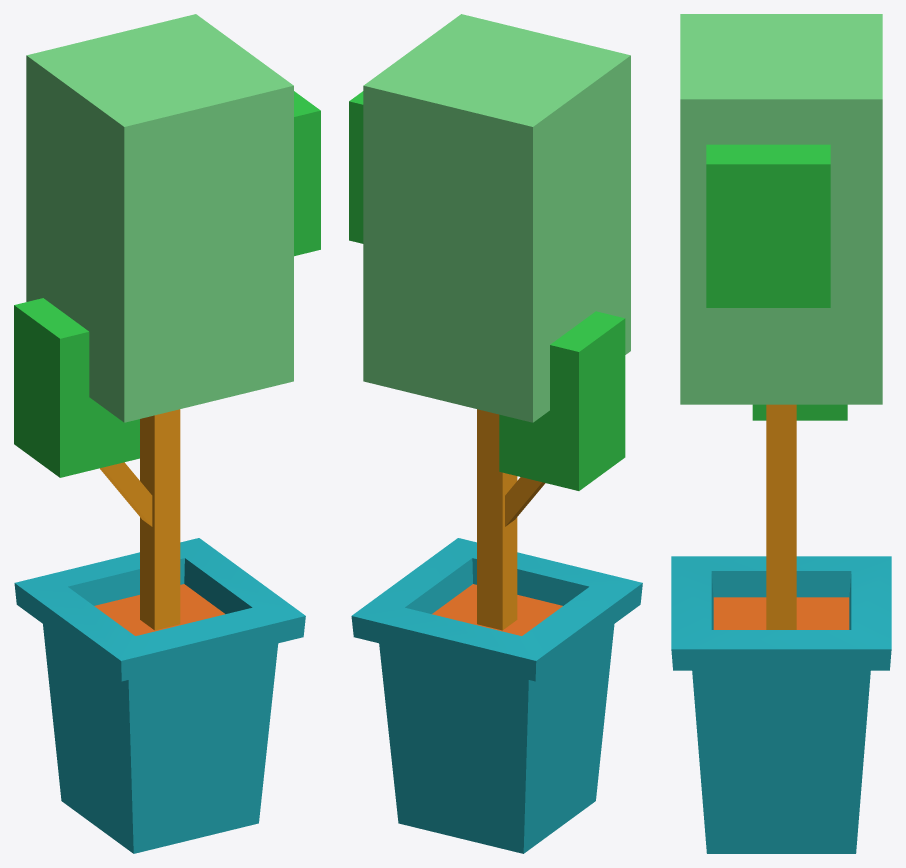
Rendered from MaceteroCuadrado.fbx.
3 views of the same model, side by side, from view 1: azimuth 30°, elevation 25°; view 2: azimuth 150°, elevation 25°; view 3: azimuth 270°, elevation 25° (orthographic). The views are drawn at different scales.
Parts seen in each view (by area): view 1: Macetero; view 2: Macetero; view 3: Macetero.
Boxes of the visible parts, x1,y1,x2,y2 form: Macetero: [14, 14, 320, 853]; Macetero: [349, 14, 642, 853]; Macetero: [671, 14, 891, 853].
Bounding box in the file's own units: 46.38 × 138 × 35.96.
